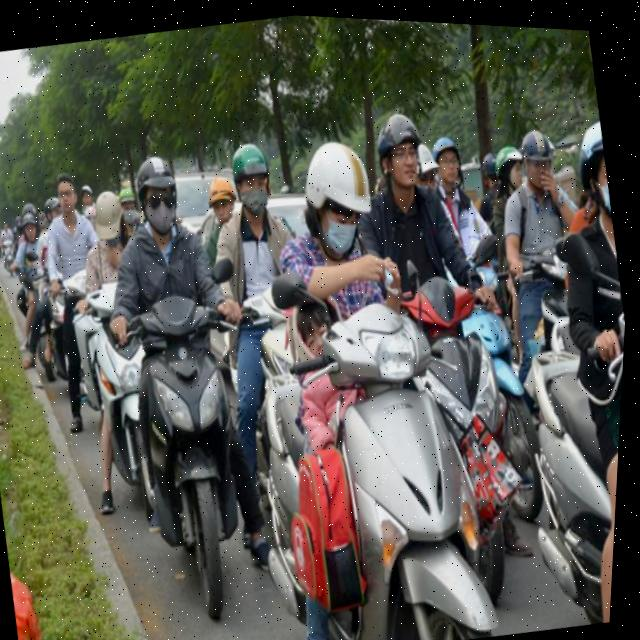motorcycle: (191, 246, 551, 640), (62, 247, 307, 640)
